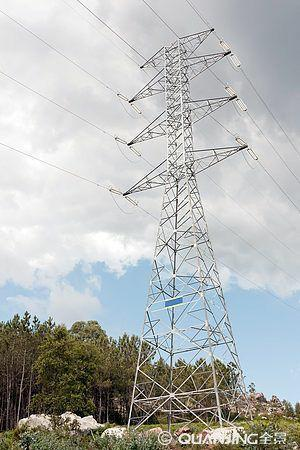power_tower: (117, 24, 268, 424)
